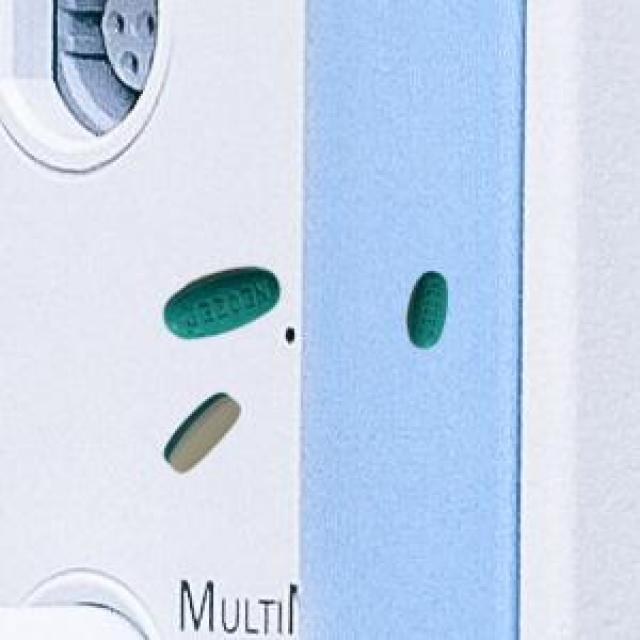Neozep: (145, 256, 288, 355), (153, 384, 247, 487), (399, 262, 459, 359)
